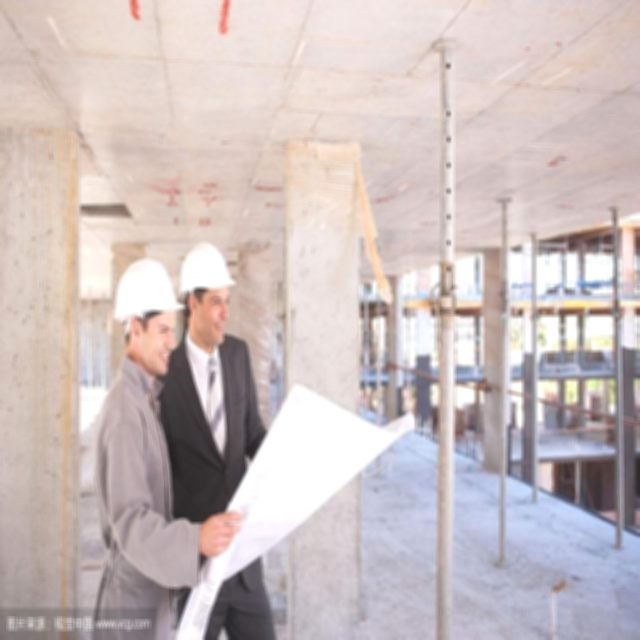Con_Casco: (114, 260, 185, 368), (180, 243, 236, 341)
